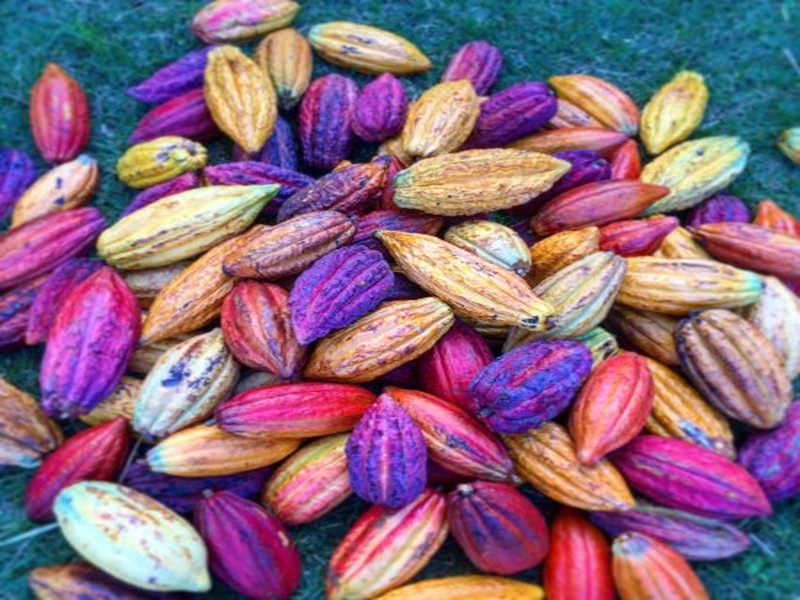Cacaopod: (371, 226, 553, 333), (393, 147, 570, 219)
